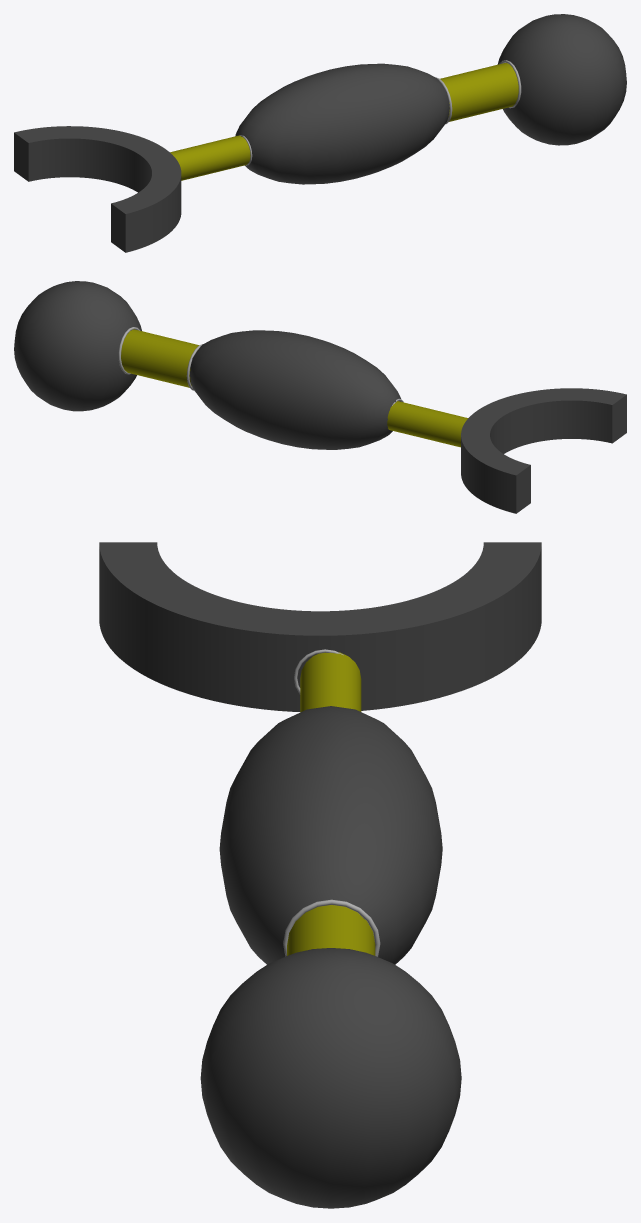
The model's file is ChedRightArm.fbx.
The picture shows the model from 3 angles, top to bottom: view 1: azimuth 30°, elevation 25°; view 2: azimuth 150°, elevation 25°; view 3: azimuth 270°, elevation 25°; orthographic projection. The views are drawn at different scales.
Visible parts, largest first — view 1: ChedRightArm; view 2: ChedRightArm; view 3: ChedRightArm.
Part boxes in pixels (box(x1,y1,x2,y2)): ChedRightArm: box(14, 14, 626, 252); ChedRightArm: box(14, 281, 626, 513); ChedRightArm: box(99, 542, 541, 1208).
Size of the model in its own units: 1.46 by 0.3031 by 0.5134.
